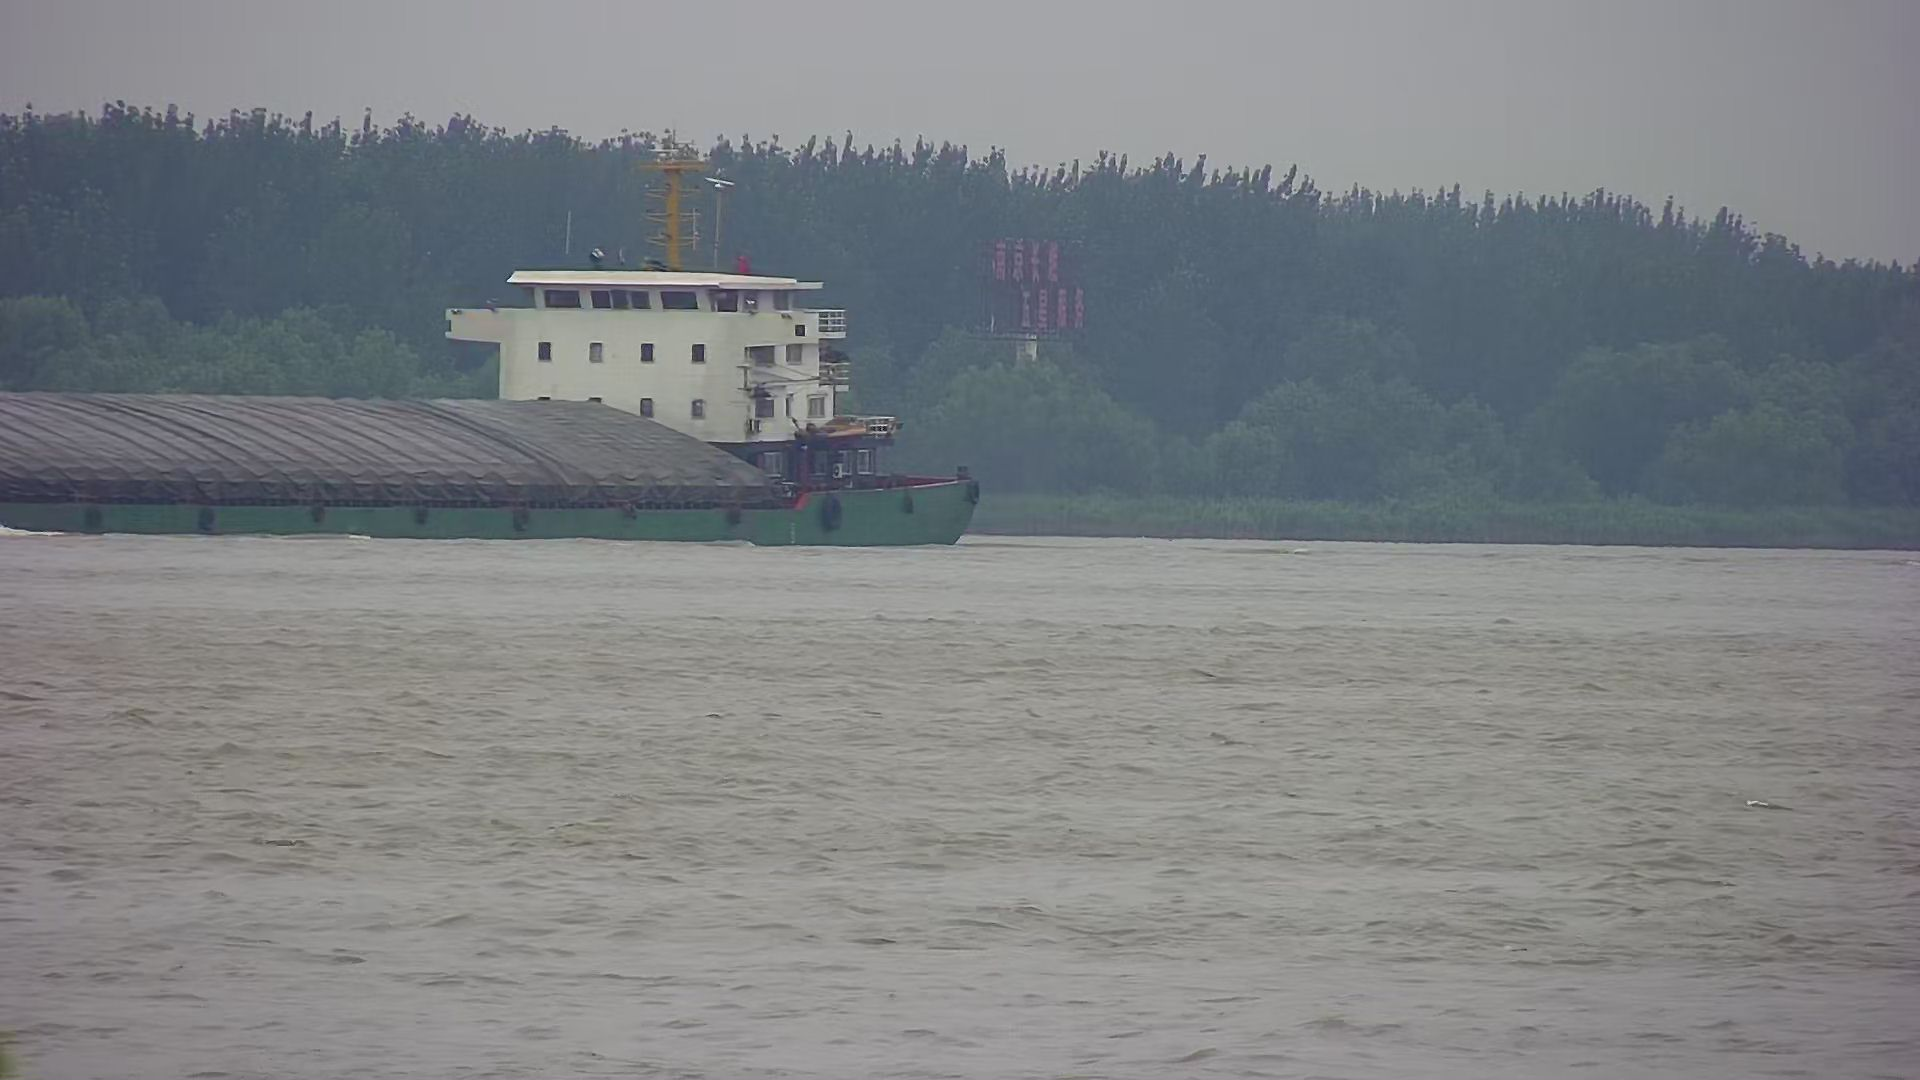ship: (3, 245, 1000, 550)
